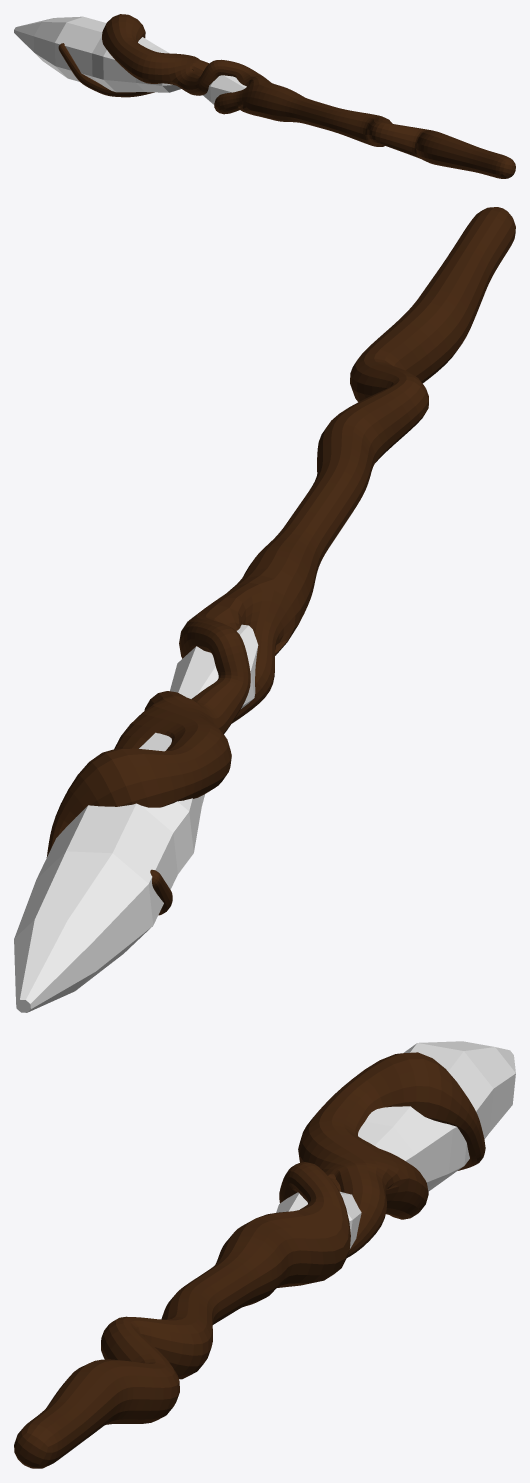
3 renders of one model, top to bottom at view 1: azimuth 30°, elevation 25°; view 2: azimuth 150°, elevation 25°; view 3: azimuth 330°, elevation 25°, orthographic. The views are drawn at different scales.
Parts seen in each view (by area): view 1: staff body, Cylinder; view 2: staff body, Cylinder; view 3: staff body, Cylinder.
Part boxes in pixels (left/top/right/bottom): staff body: left=58, top=14, right=515, bottom=178; Cylinder: left=14, top=16, right=246, bottom=104; staff body: left=46, top=207, right=515, bottom=915; Cylinder: left=14, top=624, right=258, bottom=1012; staff body: left=14, top=1052, right=485, bottom=1468; Cylinder: left=276, top=1041, right=515, bottom=1248.
Size of the model in its own units: 7.18 by 5.64 by 31.04.
